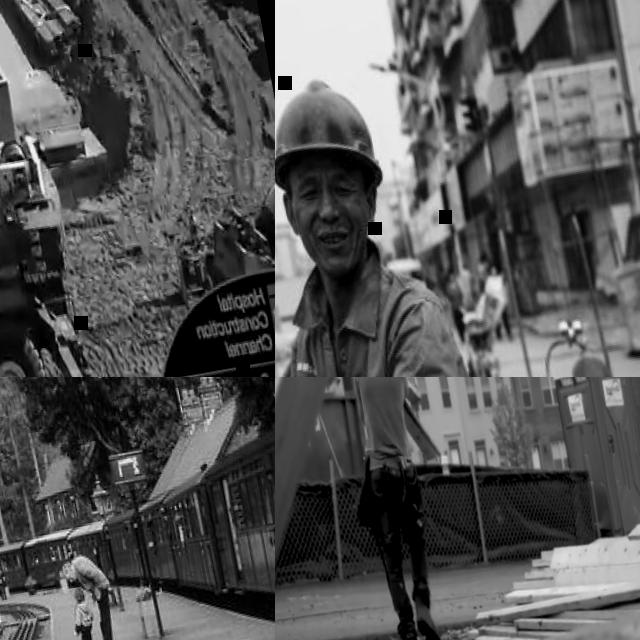helmet: (275, 72, 383, 199)
machinery: (0, 0, 104, 377), (189, 114, 275, 284)
no_helmet: (71, 586, 84, 602), (62, 562, 72, 578), (478, 253, 487, 262), (448, 268, 455, 275), (488, 262, 496, 268)
no_mask: (302, 208, 372, 275), (68, 568, 78, 582), (73, 598, 78, 604)
no_vest: (348, 377, 420, 468), (442, 267, 470, 341), (73, 552, 106, 596), (74, 601, 92, 628), (458, 272, 475, 299), (447, 284, 463, 308), (490, 274, 506, 297), (476, 270, 488, 292)
person: (275, 56, 523, 377), (333, 377, 459, 640), (61, 549, 123, 640), (482, 258, 516, 342), (65, 585, 101, 640), (455, 260, 480, 310), (473, 253, 493, 296)
vest: (275, 221, 519, 377)
